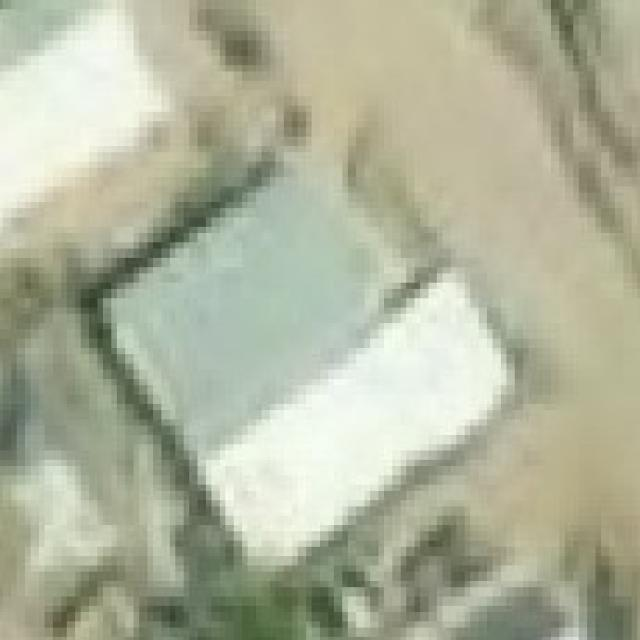Batiment: (107, 176, 507, 562), (1, 4, 166, 227)
